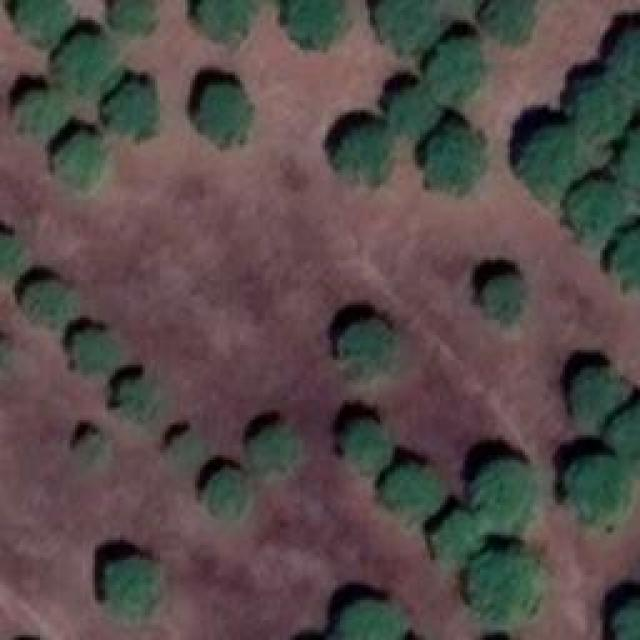Tree: (468, 545, 538, 623), (565, 455, 630, 525), (480, 458, 540, 531), (333, 318, 398, 381), (420, 125, 480, 190), (95, 557, 160, 615), (520, 128, 578, 193), (335, 125, 395, 185), (578, 75, 633, 140), (385, 463, 440, 526), (428, 505, 481, 568), (58, 35, 113, 90), (58, 130, 110, 188), (337, 597, 404, 640), (103, 85, 156, 138), (565, 368, 618, 421), (342, 417, 390, 475), (285, 0, 343, 48), (198, 83, 248, 138), (375, 0, 435, 45), (430, 40, 480, 93), (572, 180, 620, 233), (15, 0, 70, 45), (68, 333, 121, 378), (197, 0, 255, 38), (20, 280, 75, 320), (253, 427, 298, 475), (13, 93, 63, 133), (482, 0, 529, 42), (205, 468, 248, 513), (112, 378, 160, 418), (477, 278, 525, 318), (393, 87, 433, 135), (615, 230, 640, 298), (612, 405, 640, 465), (113, 0, 158, 35), (615, 130, 640, 193), (615, 30, 640, 88), (0, 232, 25, 280), (610, 600, 640, 640), (173, 432, 203, 460), (72, 432, 100, 460)
